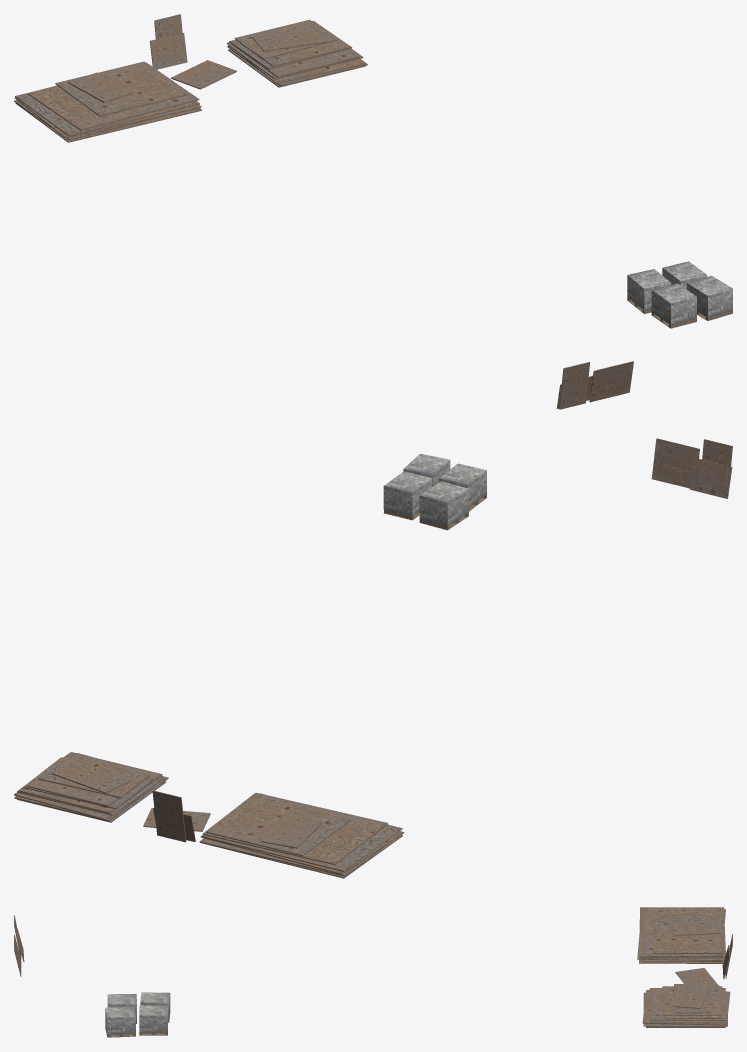
File: duski.FBX
3 renders of one model, top to bottom at view 1: azimuth 30°, elevation 25°; view 2: azimuth 150°, elevation 25°; view 3: azimuth 270°, elevation 25°, orthographic. The views are drawn at different scales.
Visible parts, largest first — view 1: AI20_011_121, AI20_011_120, AI20_011_184, AI20_011_183, AI20_011_426, AI20_011_131, AI20_011_119, AI20_011_185, AI20_011_404, AI20_011_133, AI20_011_124, AI20_011_129 (+5 smaller); view 2: AI20_011_121, AI20_011_120, AI20_011_185, AI20_011_426, AI20_011_182, AI20_011_131, AI20_011_119, AI20_011_123, AI20_011_403, AI20_011_133, AI20_011_122, AI20_011_184 (+3 smaller); view 3: AI20_011_121, AI20_011_120, AI20_011_183, AI20_011_131, AI20_011_182, AI20_011_119, AI20_011_129, AI20_011_133, AI20_011_122, AI20_011_134, AI20_011_127, AI20_011_132 (+6 smaller).
Boxes of the visible parts, x1,y1,x2,y2 form: AI20_011_121: (55, 61, 188, 116); AI20_011_120: (27, 62, 199, 130); AI20_011_184: (651, 283, 696, 328); AI20_011_183: (686, 275, 732, 320); AI20_011_426: (589, 361, 633, 402); AI20_011_131: (234, 19, 347, 66); AI20_011_119: (15, 93, 199, 136); AI20_011_185: (627, 269, 671, 313); AI20_011_404: (559, 362, 589, 409); AI20_011_133: (252, 27, 325, 51); AI20_011_124: (149, 33, 187, 69); AI20_011_129: (229, 39, 361, 77); AI20_011_121: (206, 796, 350, 856); AI20_011_120: (202, 792, 387, 864); AI20_011_185: (419, 481, 468, 530); AI20_011_426: (651, 438, 699, 488); AI20_011_182: (383, 471, 432, 520); AI20_011_131: (27, 755, 149, 806); AI20_011_119: (201, 793, 402, 871); AI20_011_123: (152, 790, 186, 842); AI20_011_403: (689, 457, 732, 498); AI20_011_133: (51, 761, 130, 793); AI20_011_122: (261, 816, 322, 848); AI20_011_184: (438, 463, 487, 511); AI20_011_121: (653, 919, 722, 953); AI20_011_120: (641, 909, 723, 957); AI20_011_183: (105, 1006, 135, 1037); AI20_011_131: (662, 986, 722, 1015); AI20_011_182: (139, 1005, 167, 1035); AI20_011_119: (640, 907, 724, 958); AI20_011_129: (649, 988, 725, 1020); AI20_011_133: (674, 985, 710, 1008); AI20_011_122: (670, 921, 720, 935); AI20_011_134: (675, 968, 718, 985); AI20_011_127: (642, 990, 730, 1025); AI20_011_132: (674, 983, 710, 1013).
Bounding box in the file's own units: 1227 × 160 × 2987.
